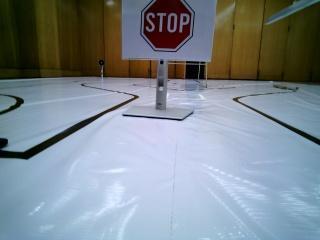stop: (125, 4, 212, 61)
